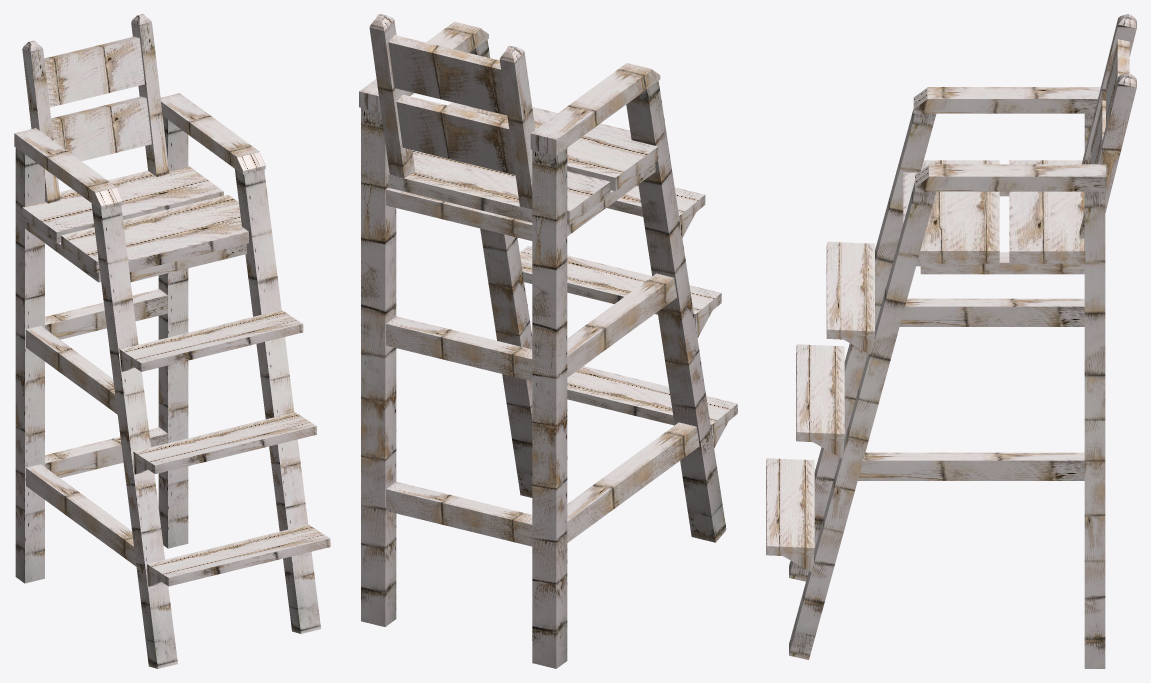
The model's file is Lifeguard's Chair.fbx.
The picture shows the model from 3 angles, left to right: view 1: azimuth 30°, elevation 25°; view 2: azimuth 150°, elevation 25°; view 3: azimuth 270°, elevation 25°; orthographic projection. The views are drawn at different scales.
Parts seen in each view (by area): view 1: Cube; view 2: Cube; view 3: Cube.
Part boxes in pixels (x1,y1,x2,y2): Cube: (14, 14, 330, 668); Cube: (359, 14, 737, 668); Cube: (766, 14, 1136, 668).
Bounding box in the file's own units: 377 × 1121 × 650.
Materials: 1 (1 with a texture image).
